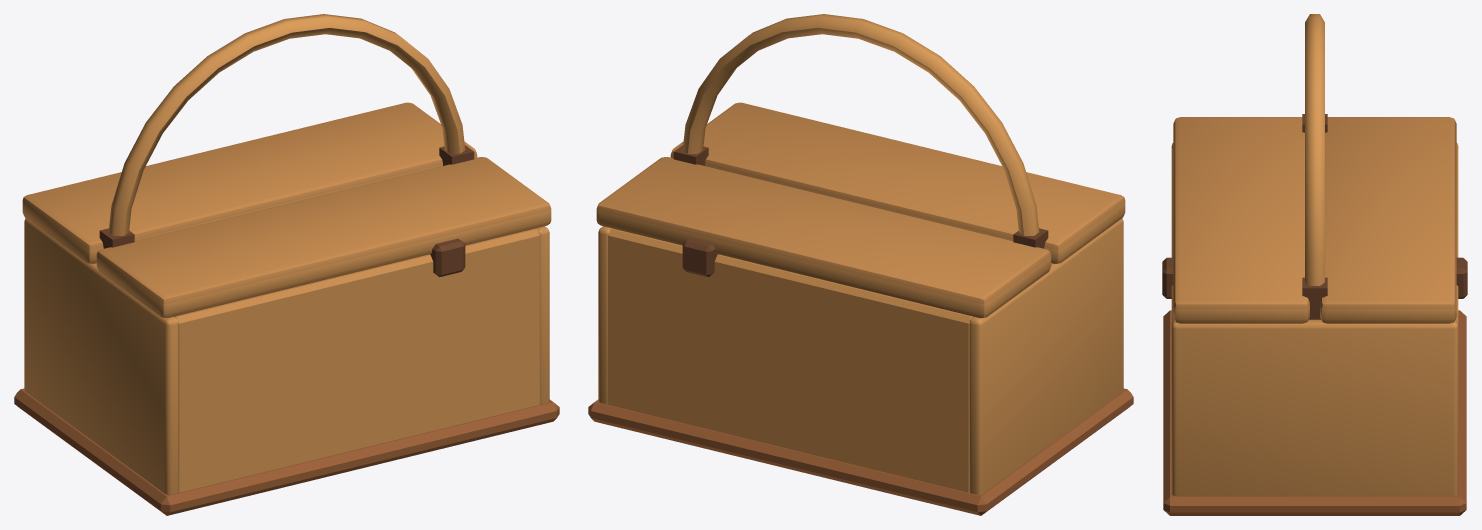
The model's file is cesta_piquenique.glb.
3 renders of one model, left to right at view 1: azimuth 30°, elevation 25°; view 2: azimuth 150°, elevation 25°; view 3: azimuth 270°, elevation 25°, orthographic.
Visible parts, largest first — view 1: cesta_piquenique, tampa_frente, tampa_tras; view 2: cesta_piquenique, tampa_tras, tampa_frente; view 3: cesta_piquenique, tampa_frente, tampa_tras.
Part boxes in pixels (box(x1,y1,x2,y2)): cesta_piquenique: box(14, 14, 559, 515); tampa_frente: box(96, 157, 551, 318); tampa_tras: box(22, 102, 477, 263); cesta_piquenique: box(588, 14, 1133, 515); tampa_tras: box(596, 157, 1051, 318); tampa_frente: box(670, 102, 1125, 263); cesta_piquenique: box(1163, 14, 1466, 515); tampa_frente: box(1162, 117, 1309, 323); tampa_tras: box(1320, 117, 1467, 323).
Size of the model in its own units: 0.54 by 0.5104 by 0.362.
Materials: 1 (1 with a texture image).
